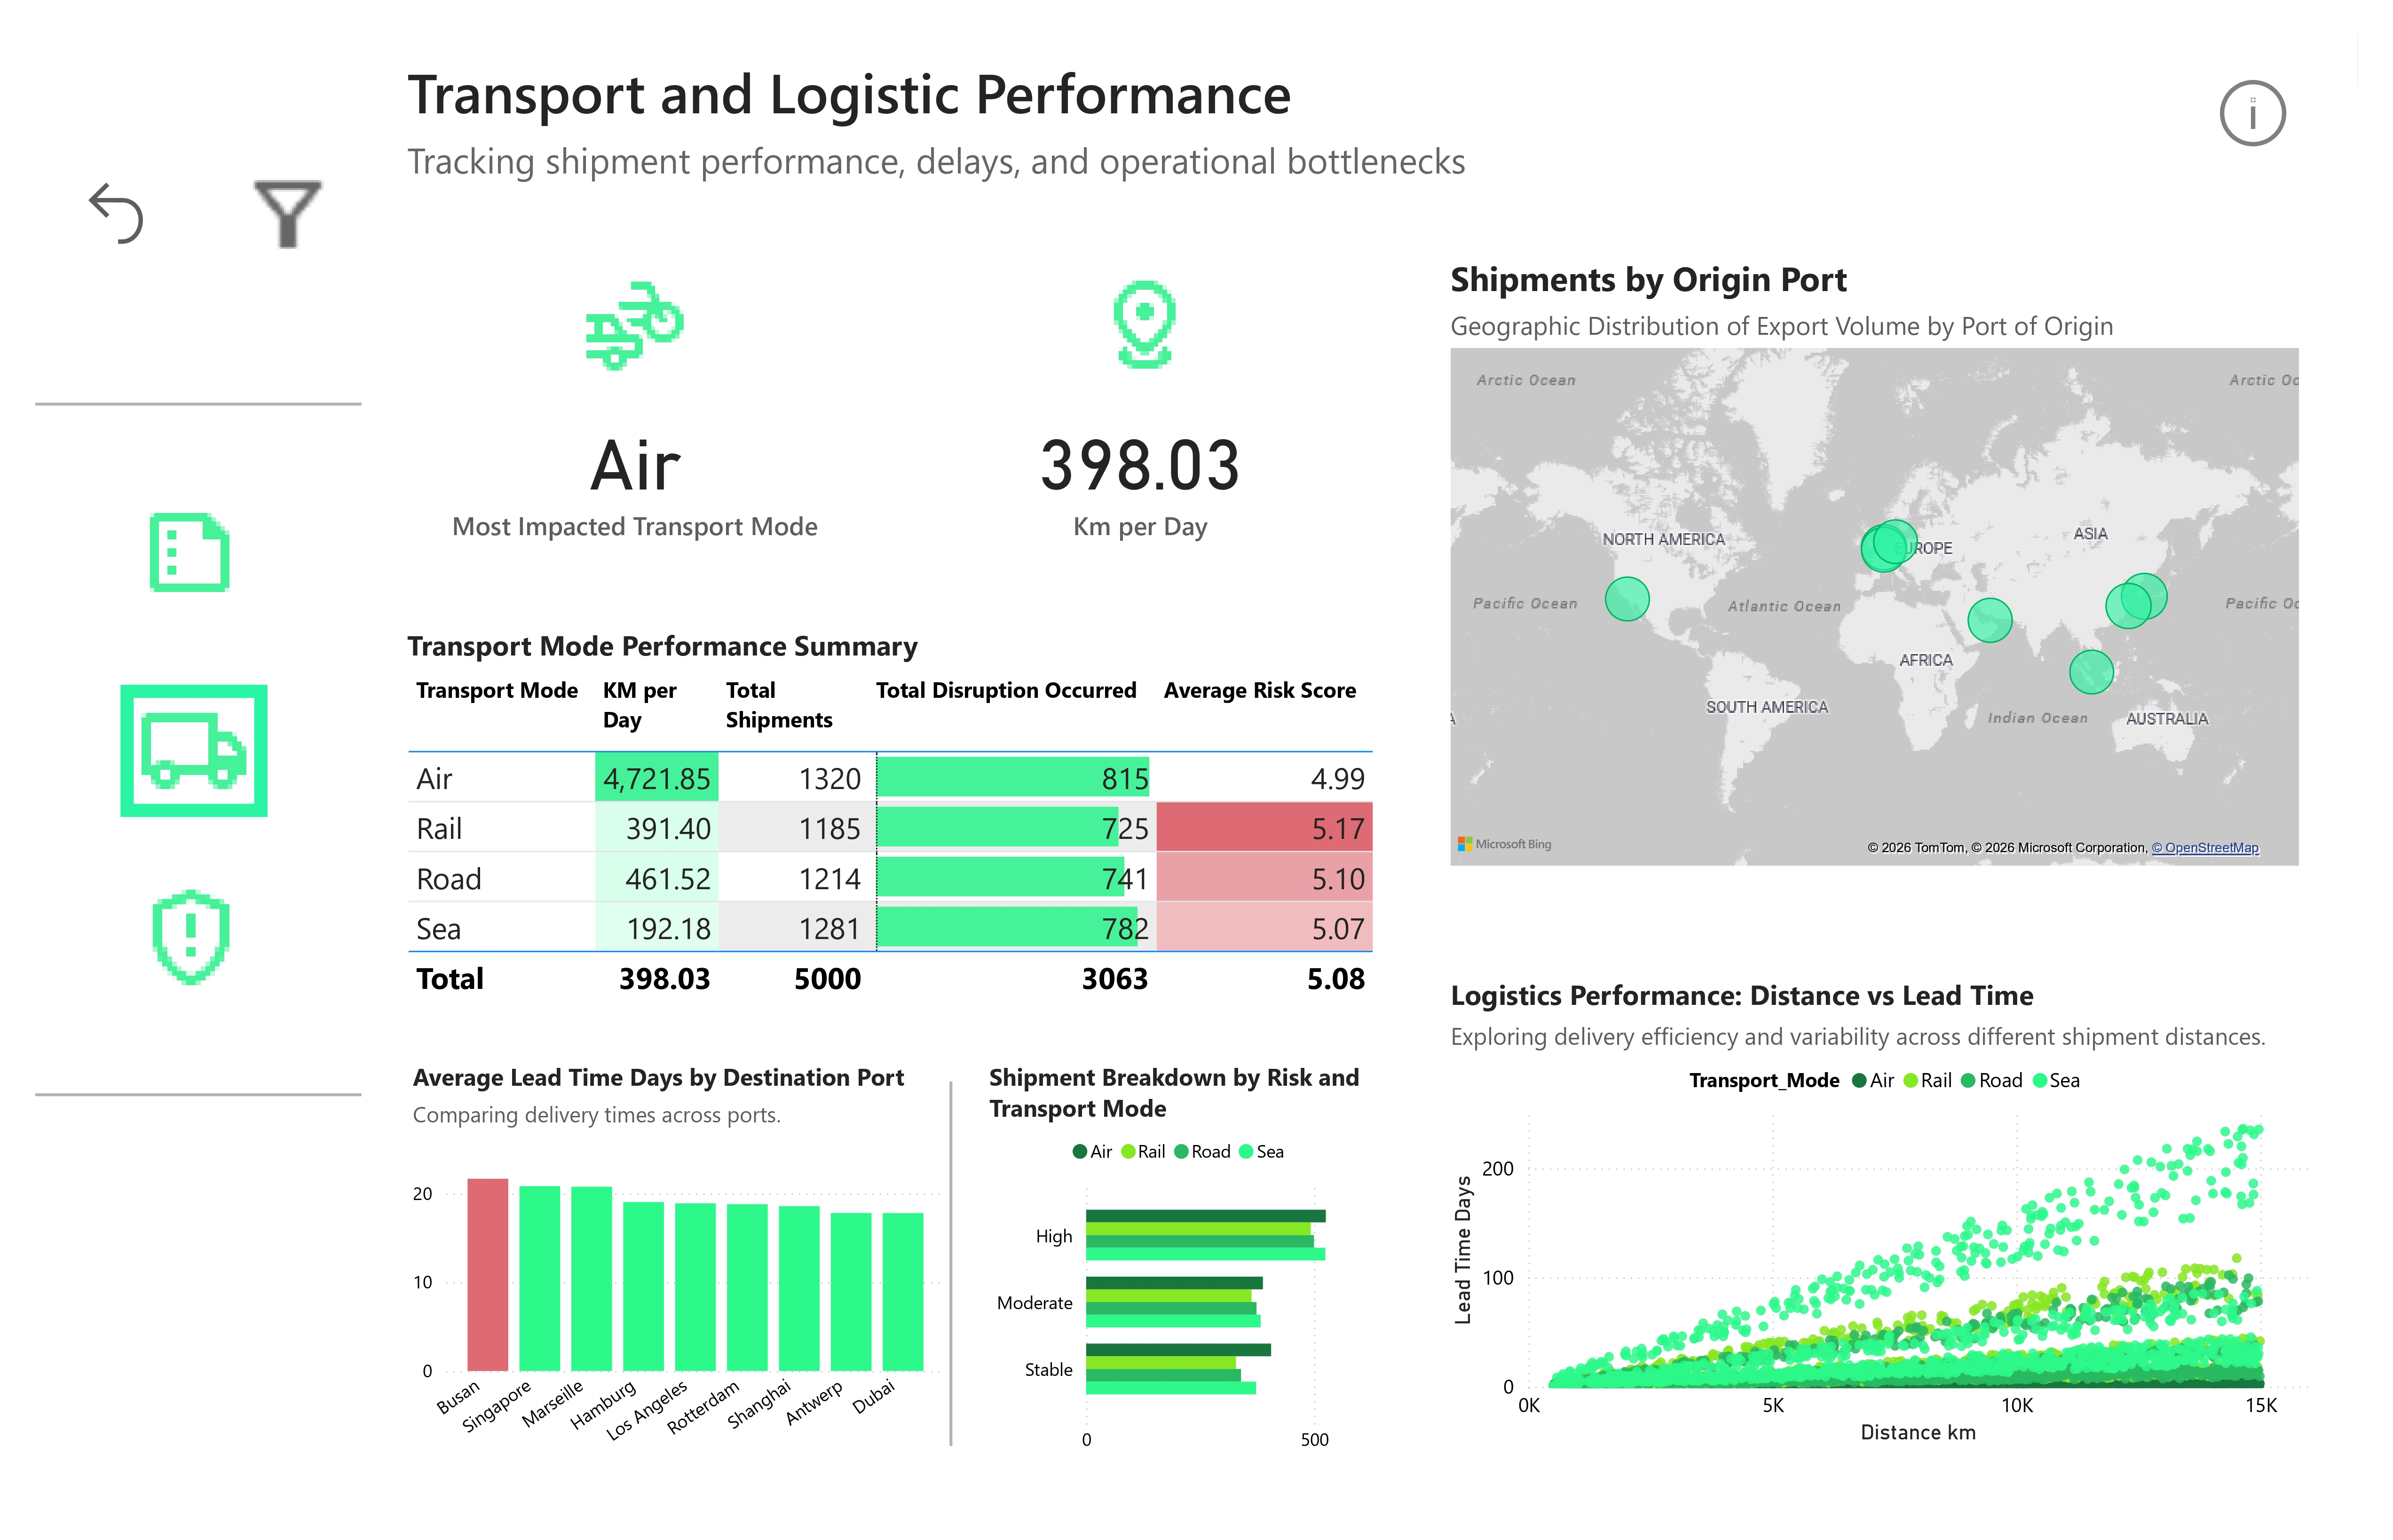

Layout of this report page (visuals, bound fields, positions):
{"tool":"powerbi","page":{"name":"Transport and Logistic Performance","canvas":[1580,1000],"ordinal":1},"visuals":[{"type":"shape","box":[0,0,222,1000],"z":0},{"type":"shape","box":[222,0,1358,108],"z":1000},{"type":"image","box":[64,294,82,116],"z":2000},{"type":"image","box":[64,440,88,94],"z":3000},{"type":"image","box":[60,570,92,88],"z":4000},{"type":"shape","box":[58,442,100,90],"z":5000},{"type":"shape","box":[0,170,222,162],"z":6000},{"type":"shape","box":[0,640,222,162],"z":7000},{"type":"textbox","box":[248,8,668,92],"z":8000},{"type":"shape","box":[248,132,320,240],"z":9000},{"type":"shape","box":[596,132,320,240],"z":10000},{"type":"shape","box":[247.5,392.5,667.5,282.5],"z":11000},{"type":"shape","box":[248,690,668,290],"z":12000},{"type":"shape","box":[937.5,132.5,625,455],"z":13000},{"type":"shape","box":[938,614,624,366],"z":14000},{"type":"map","title":"Shipments by Origin Port","fields":{"Category":["db_supply_chain_risk supply_data.Origin_Port"],"Size":["Measure Table.Total Shipments"]},"box":[957.5,150,587.5,420],"z":15000},{"type":"actionButton","box":[28,94,56,54],"z":16000},{"type":"actionButton","box":[122,84,100,76],"z":17000},{"type":"actionButton","box":[1480,24,66,58],"z":18000},{"type":"textbox","box":[247.5,62.5,752.5,70],"z":19000},{"type":"card","fields":{"Values":["Min(db_supply_chain_risk supply_data.Transport_Mode)"]},"box":[258,224,300,148],"z":20000},{"type":"scatterChart","title":"Logistics Performance: Distance vs Lead Time","fields":{"X":["db_supply_chain_risk supply_data.Distance_km"],"Y":["db_supply_chain_risk supply_data.Lead_Time_Days"],"Series":["db_supply_chain_risk supply_data.Transport_Mode"]},"box":[958,640,606,324],"z":21000},{"type":"card","fields":{"Values":["Measure Table.KM per Day"]},"box":[602,224,300,148],"z":22000},{"type":"image","box":[366,160,84,76],"z":23000},{"type":"image","box":[714,150,82,94],"z":24000},{"type":"columnChart","title":"Average Lead Time Days by Destination Port","fields":{"Y":["Avg(db_supply_chain_risk supply_data.Lead_Time_Days)"],"Category":["db_supply_chain_risk supply_data.Destination_Port"]},"box":[252,698,372,282],"z":25000},{"type":"tableEx","title":"Transport Mode Performance Summary","fields":{"Values":["db_supply_chain_risk supply_data.Transport_Mode","Measure Table.KM per Day","Measure Table.Total Shipments","Sum(db_supply_chain_risk supply_data.Disruption_Occurred)","Avg(db_supply_chain_risk supply_data.Geopolitical_Risk_Score)"]},"box":[248,402,668,264],"z":26000},{"type":"clusteredBarChart","title":"Shipment Breakdown by Risk and Transport Mode","fields":{"Category":["db_supply_chain_risk supply_data.risk_score"],"Series":["db_supply_chain_risk supply_data.Transport_Mode"],"Y":["Measure Table.Total Shipments"]},"box":[644,698,272,276],"z":27000},{"type":"shape","box":[512,712,222,248],"z":29000}]}

Visuals, with their boxes on the page's 1580x1000 design canvas (x1, y1, x2, y2). These are canvas units, not pixel positions in the 2393x1540 screenshot, which may show the page scaled, cropped or inside an application window:
shape: crop(0, 0, 222, 1000)
shape: crop(222, 0, 1580, 108)
image: crop(64, 294, 146, 410)
image: crop(64, 440, 152, 534)
image: crop(60, 570, 152, 658)
shape: crop(58, 442, 158, 532)
shape: crop(0, 170, 222, 332)
shape: crop(0, 640, 222, 802)
textbox: crop(248, 8, 916, 100)
shape: crop(248, 132, 568, 372)
shape: crop(596, 132, 916, 372)
shape: crop(248, 392, 915, 675)
shape: crop(248, 690, 916, 980)
shape: crop(938, 132, 1562, 588)
shape: crop(938, 614, 1562, 980)
"Shipments by Origin Port" map: crop(958, 150, 1545, 570)
actionButton: crop(28, 94, 84, 148)
actionButton: crop(122, 84, 222, 160)
actionButton: crop(1480, 24, 1546, 82)
textbox: crop(248, 62, 1000, 132)
card - Min(db_supply_chain_risk supply_data.Transport_Mode): crop(258, 224, 558, 372)
"Logistics Performance: Distance vs Lead Time" scatterChart: crop(958, 640, 1564, 964)
card - Measure Table.KM per Day: crop(602, 224, 902, 372)
image: crop(366, 160, 450, 236)
image: crop(714, 150, 796, 244)
"Average Lead Time Days by Destination Port" columnChart: crop(252, 698, 624, 980)
"Transport Mode Performance Summary" tableEx: crop(248, 402, 916, 666)
"Shipment Breakdown by Risk and Transport Mode" clusteredBarChart: crop(644, 698, 916, 974)
shape: crop(512, 712, 734, 960)
